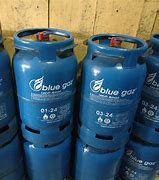blue_gas: (77, 33, 146, 150), (14, 28, 75, 146), (129, 34, 159, 139), (76, 139, 124, 180), (24, 141, 70, 180), (1, 35, 16, 142), (125, 141, 159, 180), (1, 139, 24, 180)
